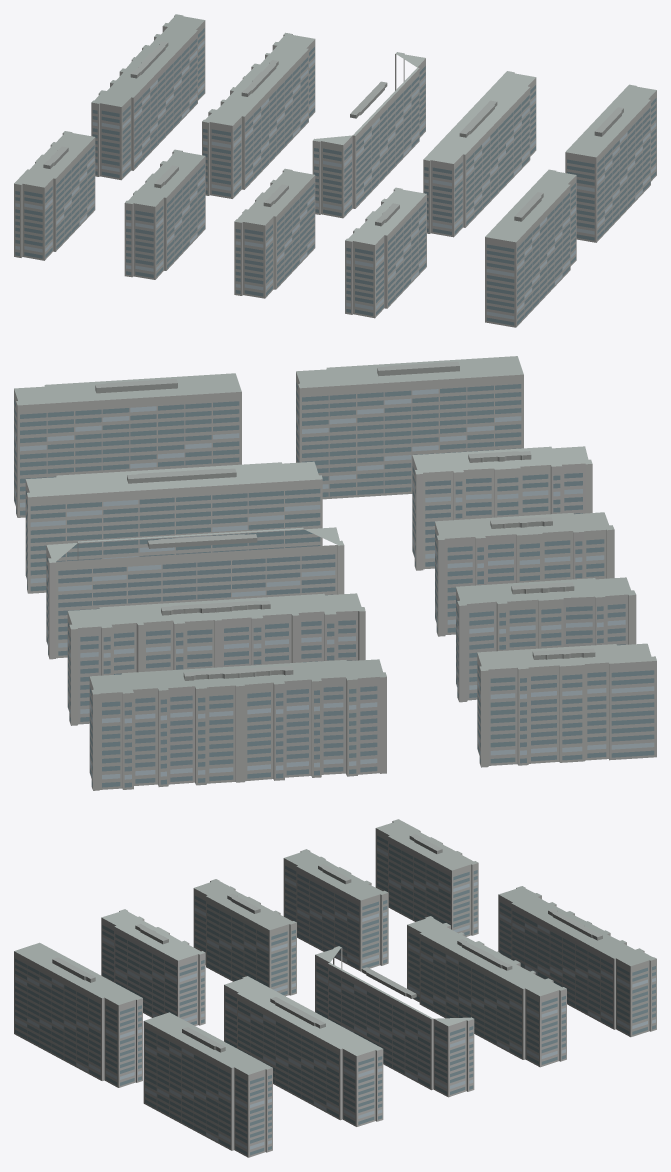
The model's file is apt-a15001019.glb.
3 renders of one model, top to bottom at view 1: azimuth 30°, elevation 25°; view 2: azimuth 150°, elevation 25°; view 3: azimuth 270°, elevation 25°, orthographic. The views are drawn at different scales.
Visible parts, largest first — view 1: apt-a15001019; view 2: apt-a15001019; view 3: apt-a15001019.
Part boxes in pixels (x1,y1,x2,y2): apt-a15001019: [14, 14, 656, 327]; apt-a15001019: [14, 356, 656, 790]; apt-a15001019: [14, 819, 656, 1157].
Size of the model in its own units: 278 by 42 by 282.
